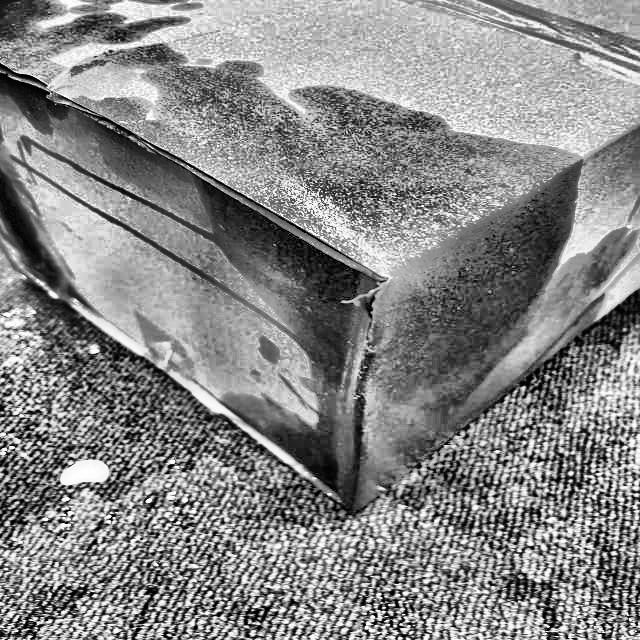box: (0, 0, 640, 524)
wet: (196, 88, 576, 509)
